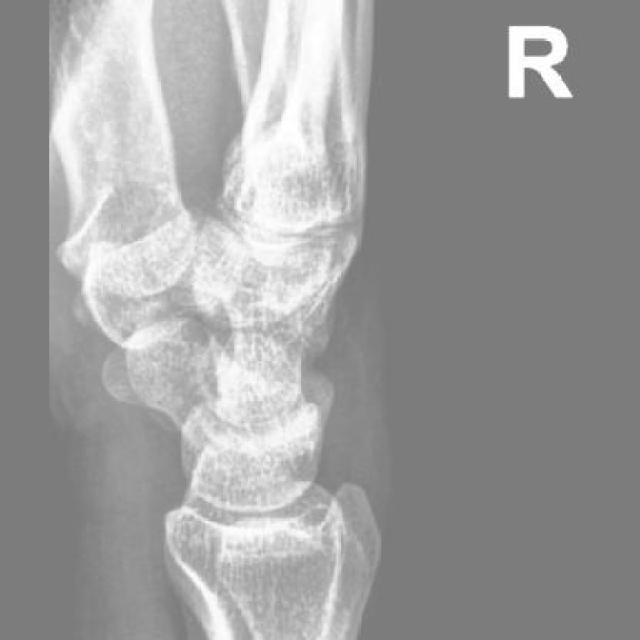Fracture: (187, 273, 336, 393)
